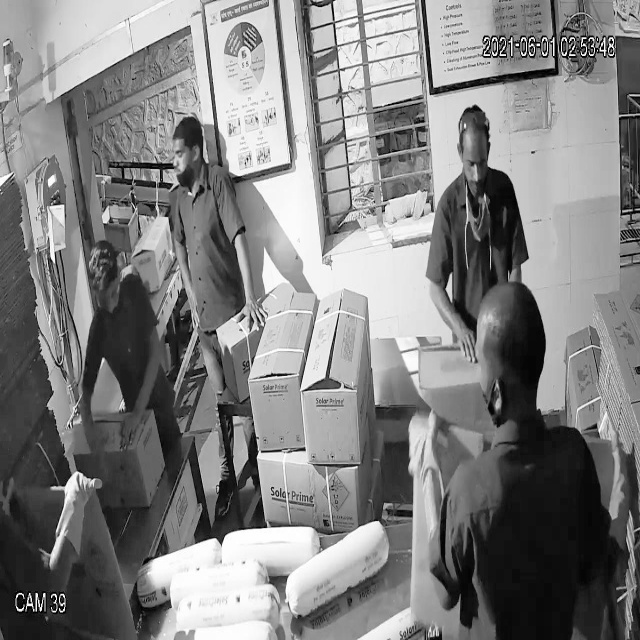Sin_gafas: (454, 144, 495, 180)
